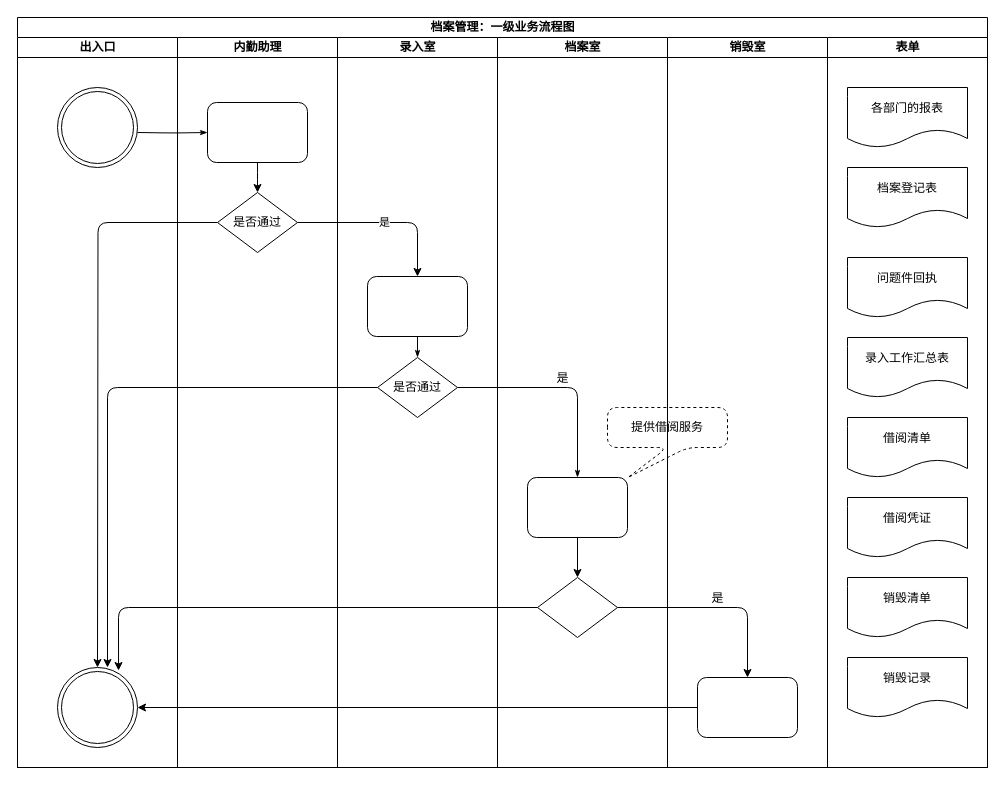
This 1005x785 diagram has some shape labels left out. Each missing label, with the centre of its shape:
"初步整理归类 并审核" goes at (x=257, y=132).
"开始" goes at (x=97, y=127).
"数字化处理 并复查" goes at (x=417, y=306).
"文件销毁" goes at (x=747, y=707).
"是否销毁" goes at (x=577, y=607).
"档案归档" goes at (x=577, y=507).
"结束" goes at (x=97, y=707).
